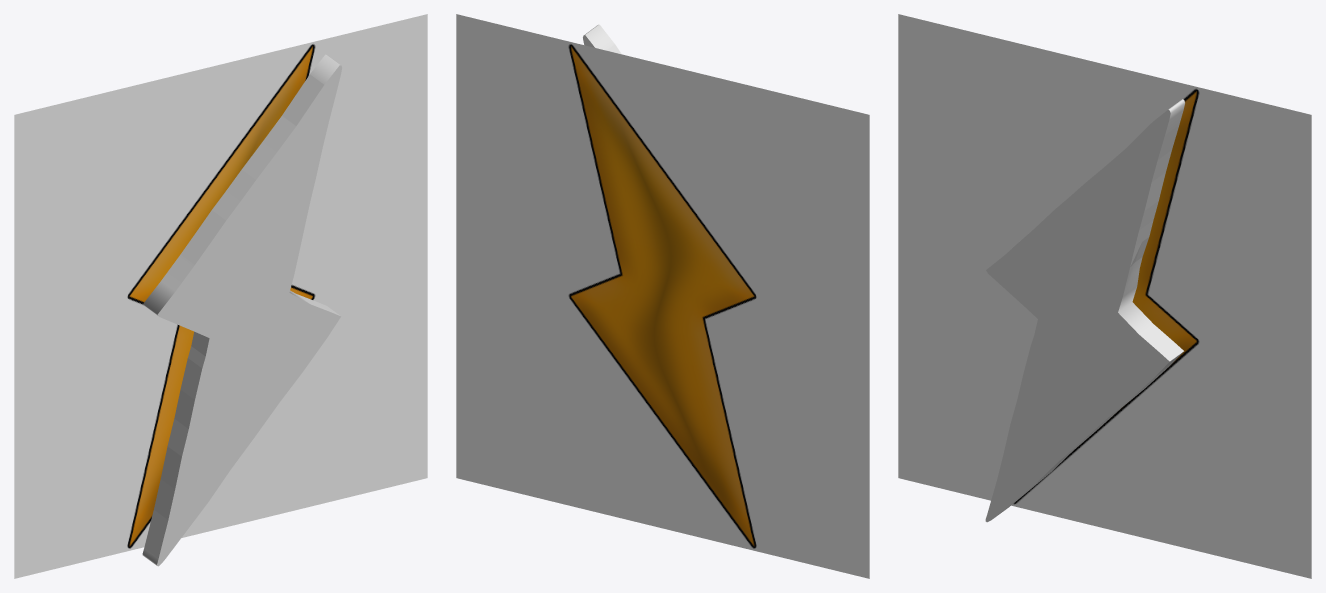
File: boost.FBX
3 renders of one model, left to right at view 1: azimuth 30°, elevation 25°; view 2: azimuth 150°, elevation 25°; view 3: azimuth 330°, elevation 25°, orthographic.
Visible parts, largest first — view 1: Plane001, Box001; view 2: Plane001, Box001; view 3: Plane001, Box001.
Part boxes in pixels (x1,y1,x2,y2): Plane001: (14, 14, 427, 578); Box001: (142, 54, 341, 566); Plane001: (456, 14, 869, 578); Box001: (583, 24, 621, 54); Plane001: (898, 14, 1311, 578); Box001: (985, 99, 1184, 522).
Size of the model in its own units: 152 by 163 by 17.67.
